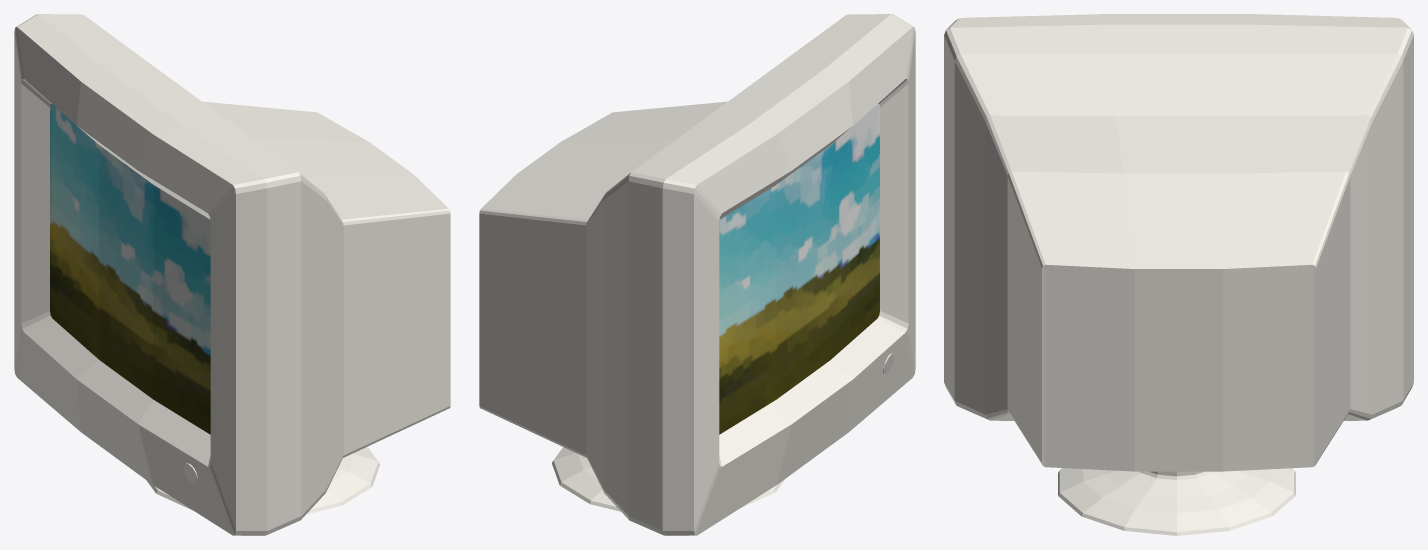
The model's file is All-In-One computer.fbx.
3 renders of one model, left to right at view 1: azimuth 30°, elevation 25°; view 2: azimuth 150°, elevation 25°; view 3: azimuth 270°, elevation 25°, orthographic.
Parts seen in each view (by area): view 1: all_in_one_computer; view 2: all_in_one_computer; view 3: all_in_one_computer.
Part boxes in pixels (<box>): all_in_one_computer: <box>14,14,450,535</box>; all_in_one_computer: <box>479,14,915,535</box>; all_in_one_computer: <box>944,14,1413,535</box>.
Size of the model in its own units: 0.626 by 0.8359 by 0.8826.
